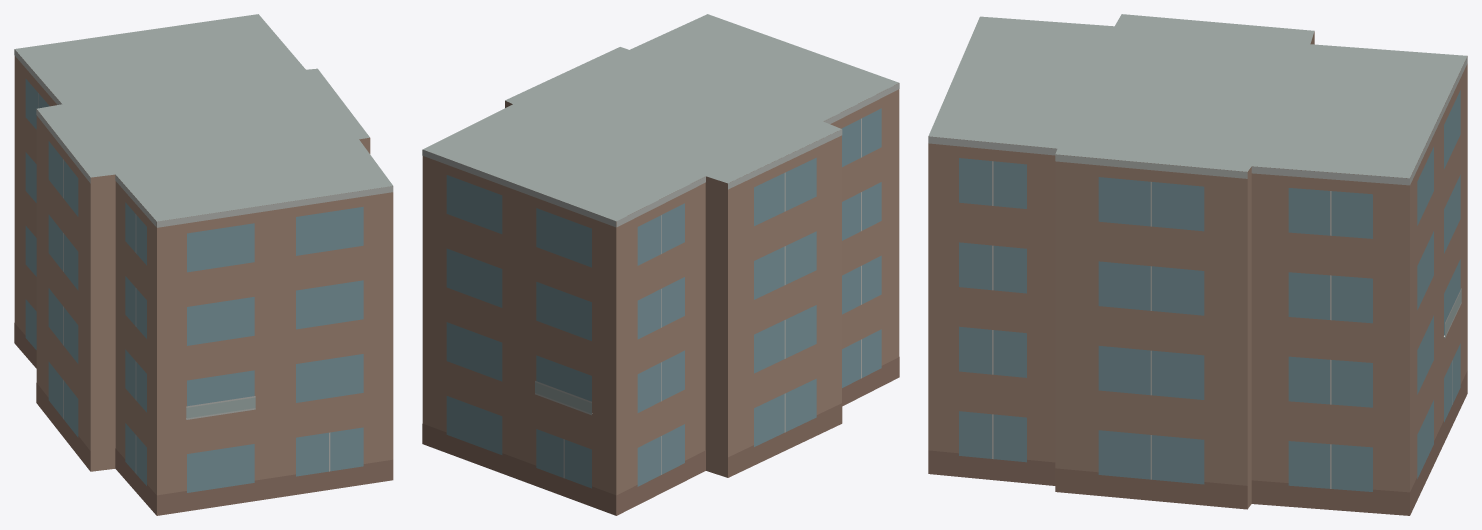
File: survey-upis-32949014.glb
3 views of the same model, side by side, from view 1: azimuth 30°, elevation 25°; view 2: azimuth 150°, elevation 25°; view 3: azimuth 270°, elevation 25° (orthographic). The views are drawn at different scales.
Parts seen in each view (by area): view 1: survey-upis-32949014.tmp; view 2: survey-upis-32949014.tmp; view 3: survey-upis-32949014.tmp.
Part boxes in pixels (x1,y1,x2,y2): survey-upis-32949014.tmp: (14, 14, 393, 515); survey-upis-32949014.tmp: (422, 14, 899, 515); survey-upis-32949014.tmp: (928, 14, 1467, 515).
Bounding box in the file's own units: 12.12 × 11.6 × 16.81.
